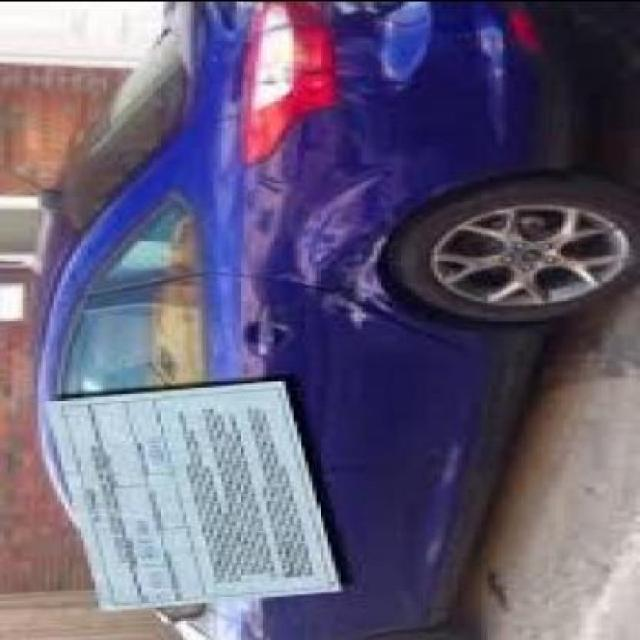damage: (278, 120, 385, 323)
